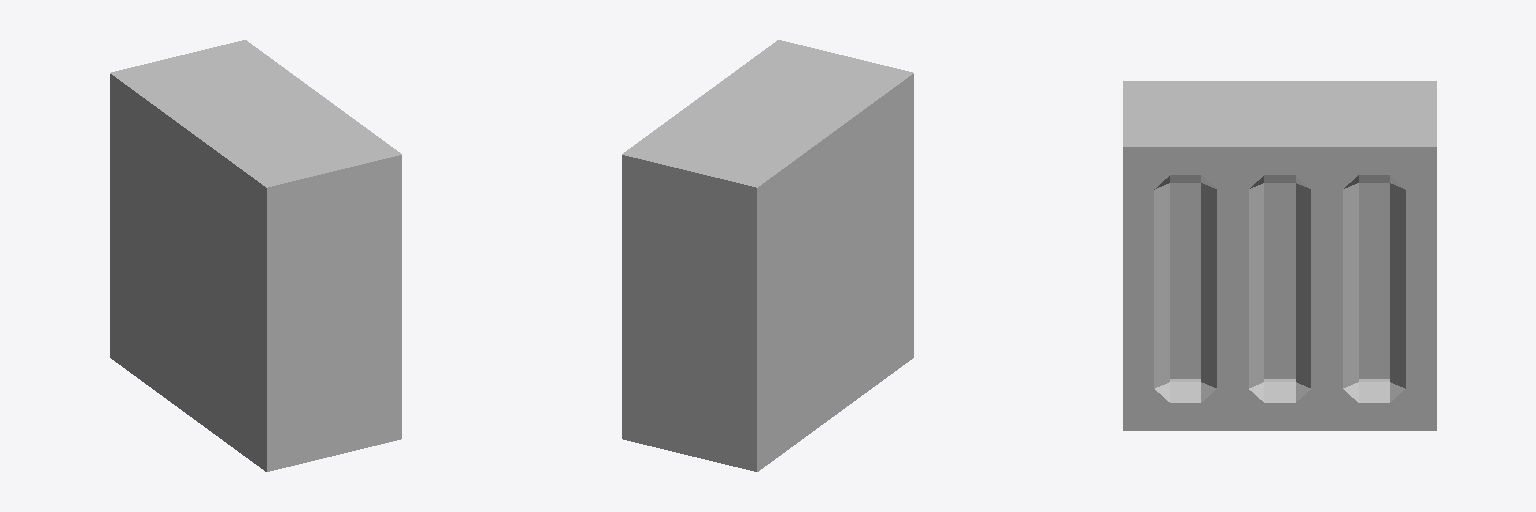
Rendered from Spacestation_Structure_Fuselage_Straight_Vertical_Vented.obj.
The picture shows the model from 3 angles: view 1: azimuth 30°, elevation 25°; view 2: azimuth 150°, elevation 25°; view 3: azimuth 270°, elevation 25°; orthographic projection.
Parts seen in each view (by area): view 1: object2; view 2: object2; view 3: object2, object1.
Boxes of the visible parts, x1,y1,x2,y2 form: object2: [110, 40, 401, 471]; object2: [622, 40, 913, 471]; object2: [1123, 81, 1436, 430]; object1: [1170, 183, 1389, 378].
Size of the model in its own units: 0.5 by 1 by 1.